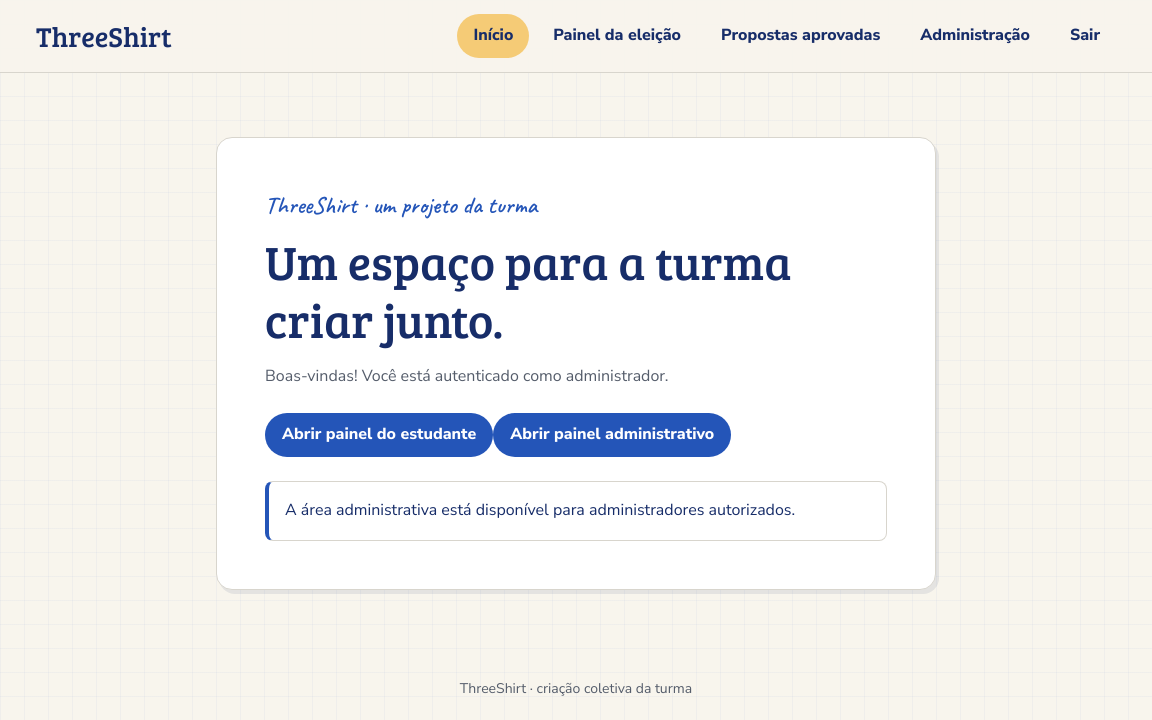
Test: an admin can navigate between the student and admin areas in one session
Expected: the link "Abrir painel administrativo" is shown, top-left (493, 413), bottom-right (731, 457)
Click the link "Abrir painel do estudante" at (379, 435), box top-left (265, 413), bottom-right (493, 457)
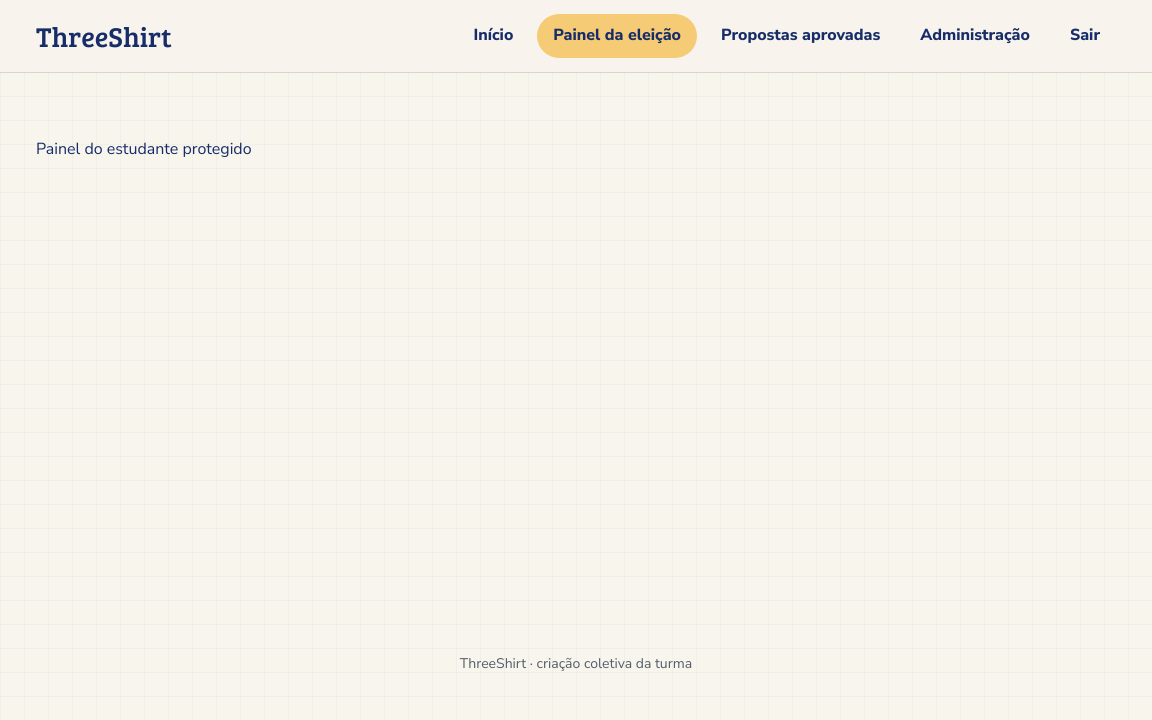
Now the text "Painel do estudante protegido" is shown, box top-left (36, 138), bottom-right (252, 160)
Click the link "Administração" at (975, 35), box top-left (920, 24), bottom-right (1030, 46)
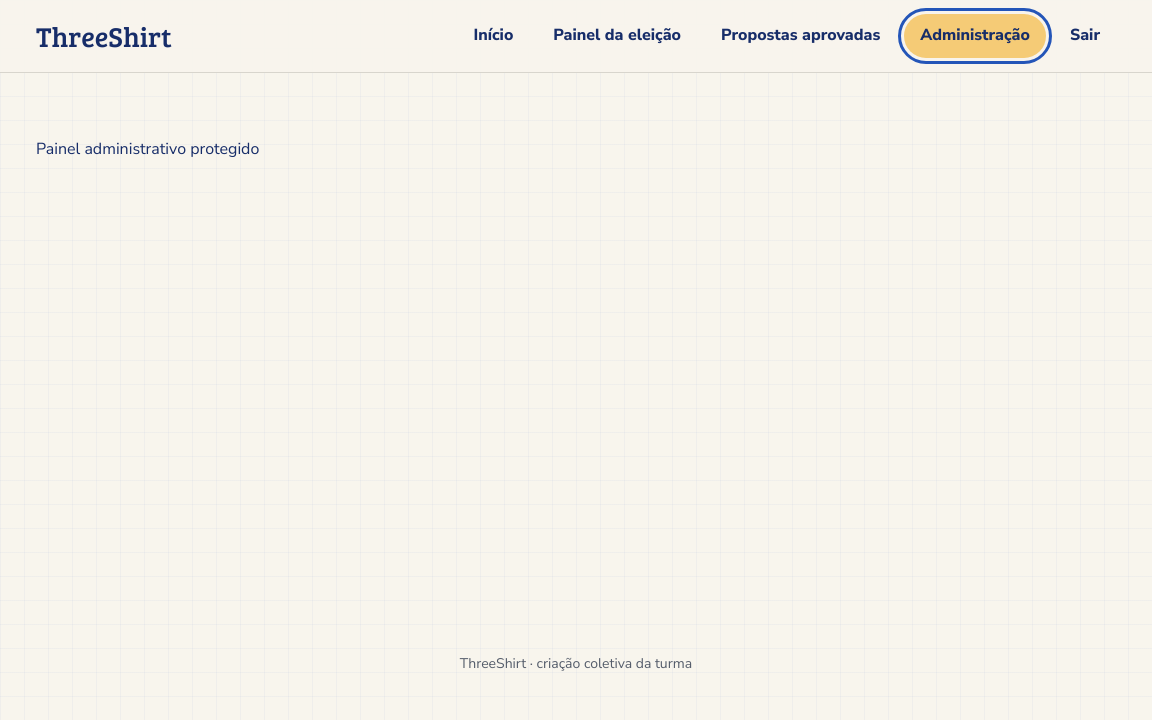
Now the text "Painel administrativo protegido" is shown, box top-left (36, 138), bottom-right (259, 160)
